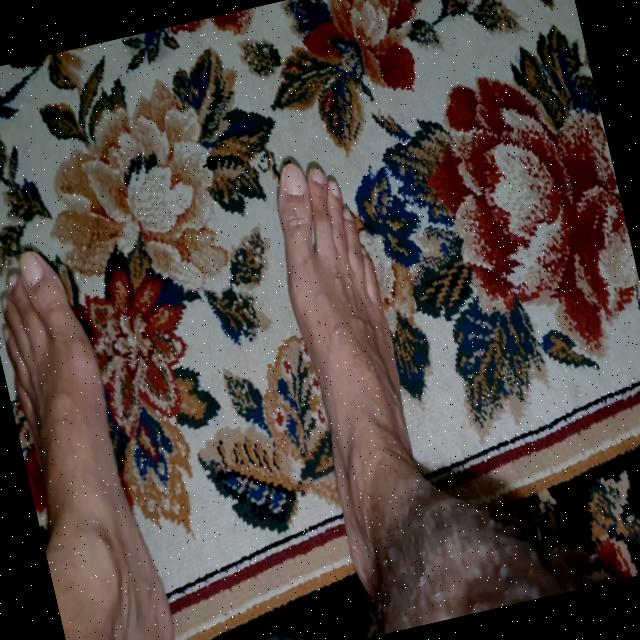no-boots: (257, 125, 509, 638), (0, 226, 189, 640)
